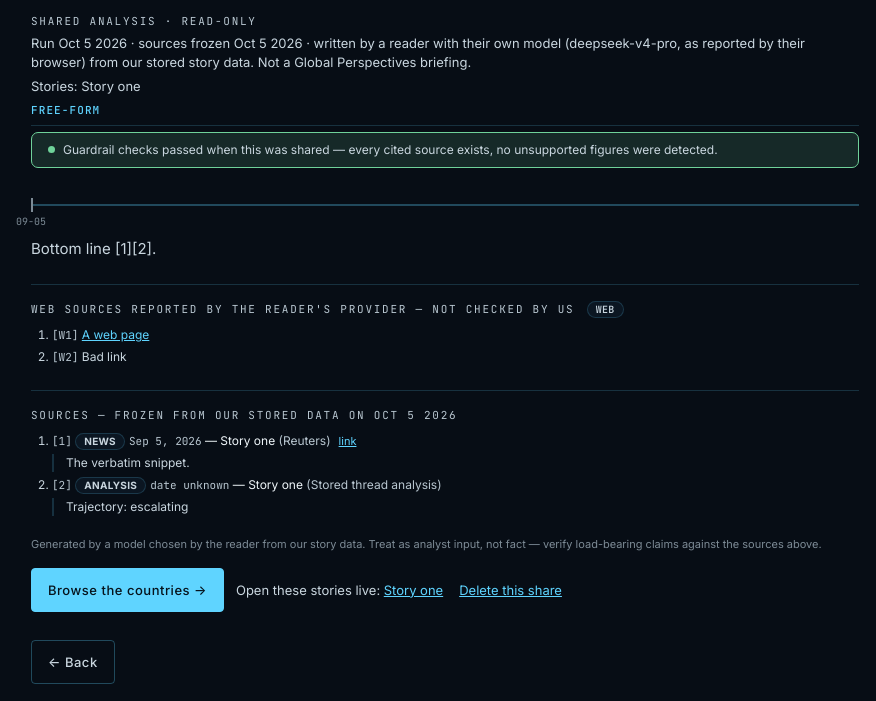
Test: SharedAnalysisPage › the owner can delete; after deleting the page says so
Click the button "Delete this share".
click(511, 590)  # box top-left (459, 581), bottom-right (562, 600)
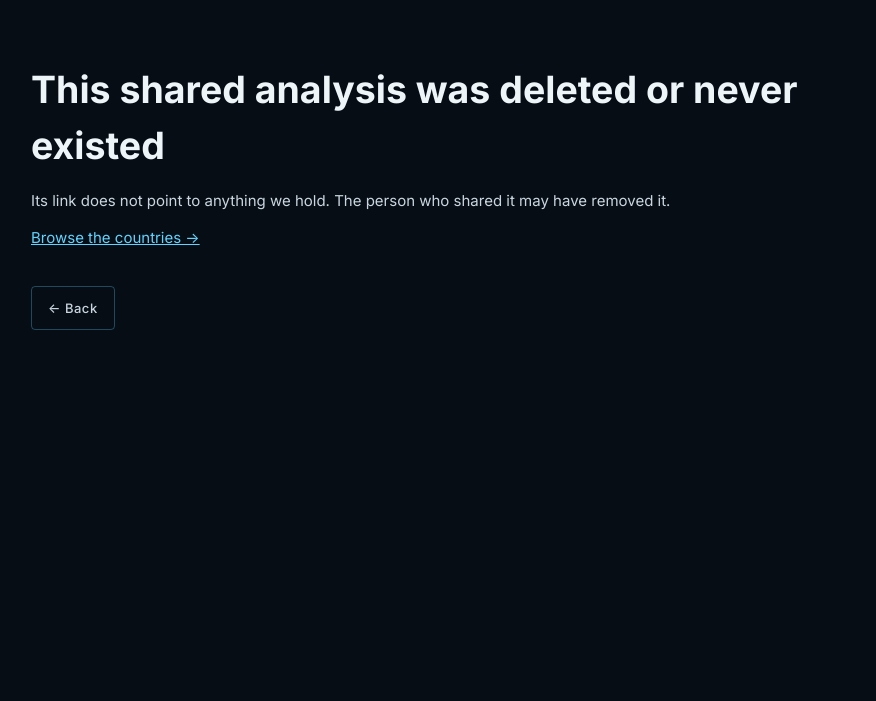
Expected: the heading "This shared analysis was deleted or never existed" is shown, top-left (31, 62), bottom-right (859, 175)
